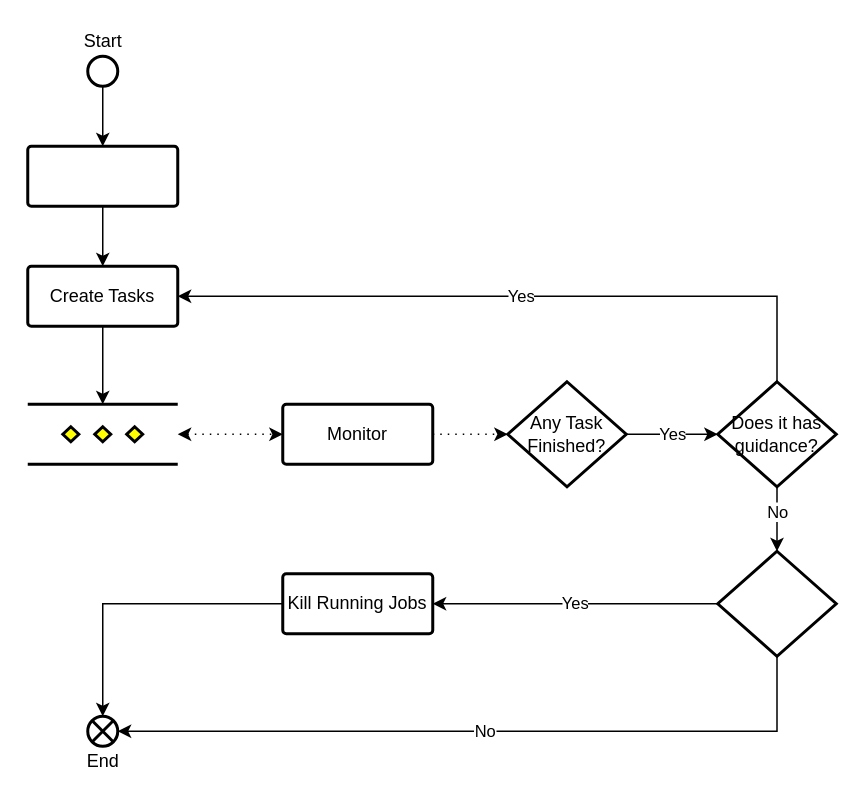
Some shapes in this 863 by 801 pixel diagram are drawn without their labels. The shapes that lost their labels are listed below. From the top down, each one's centre as x and y in pixels, then its label:
the point at 102,175: Parser Job JSON / XML
the point at 102,433: Run Tasks
the point at 776,603: Are other Tasks Running?
